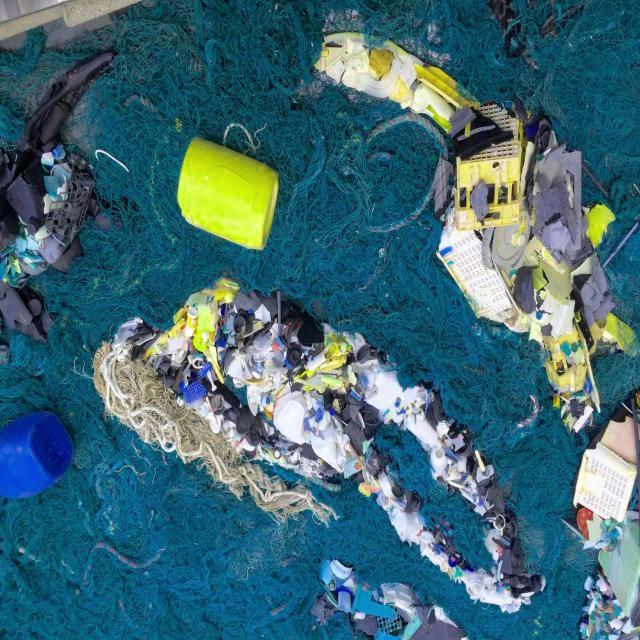Plastic: (173, 128, 282, 253), (2, 394, 73, 511)
Trash: (311, 31, 481, 137), (566, 430, 640, 518)
